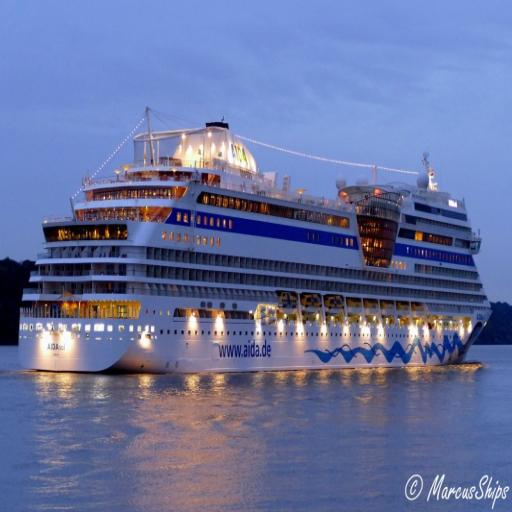cruises: (13, 85, 502, 378)
